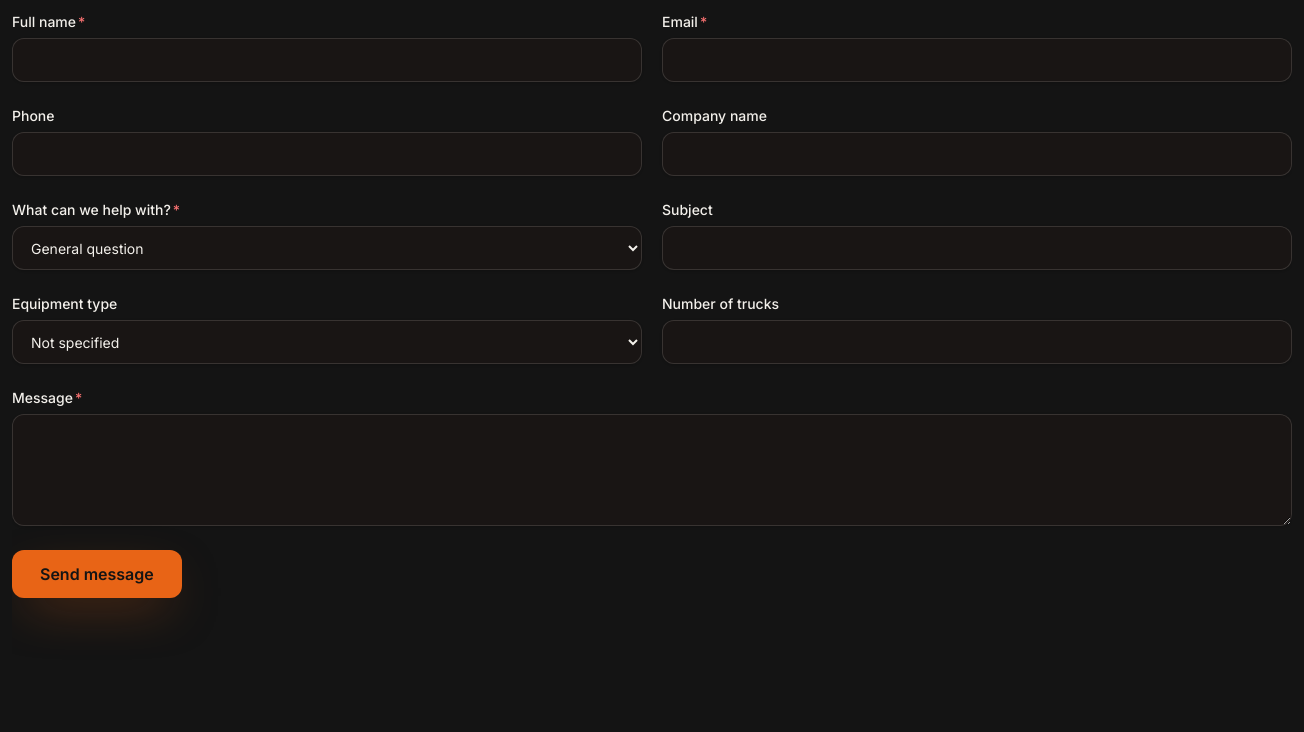
Scenario: ContactForm › shows a rate limit (429) message as an alert and keeps the input
The image size is (1304, 732).
In the field labelled "Full name*": (327,60) [12, 38, 642, 82], type "Jane Driver"
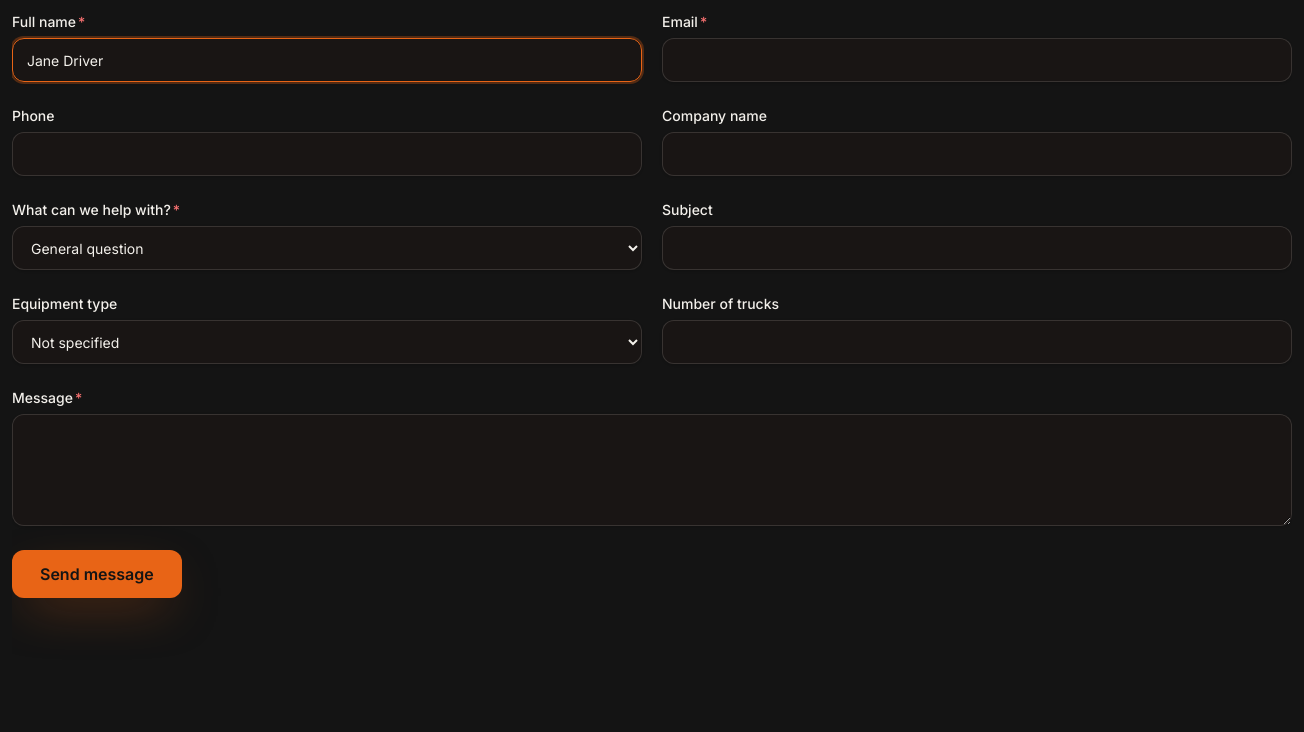
In the field labelled "Email*": (977,60) [662, 38, 1292, 82], type "jane@example.com"
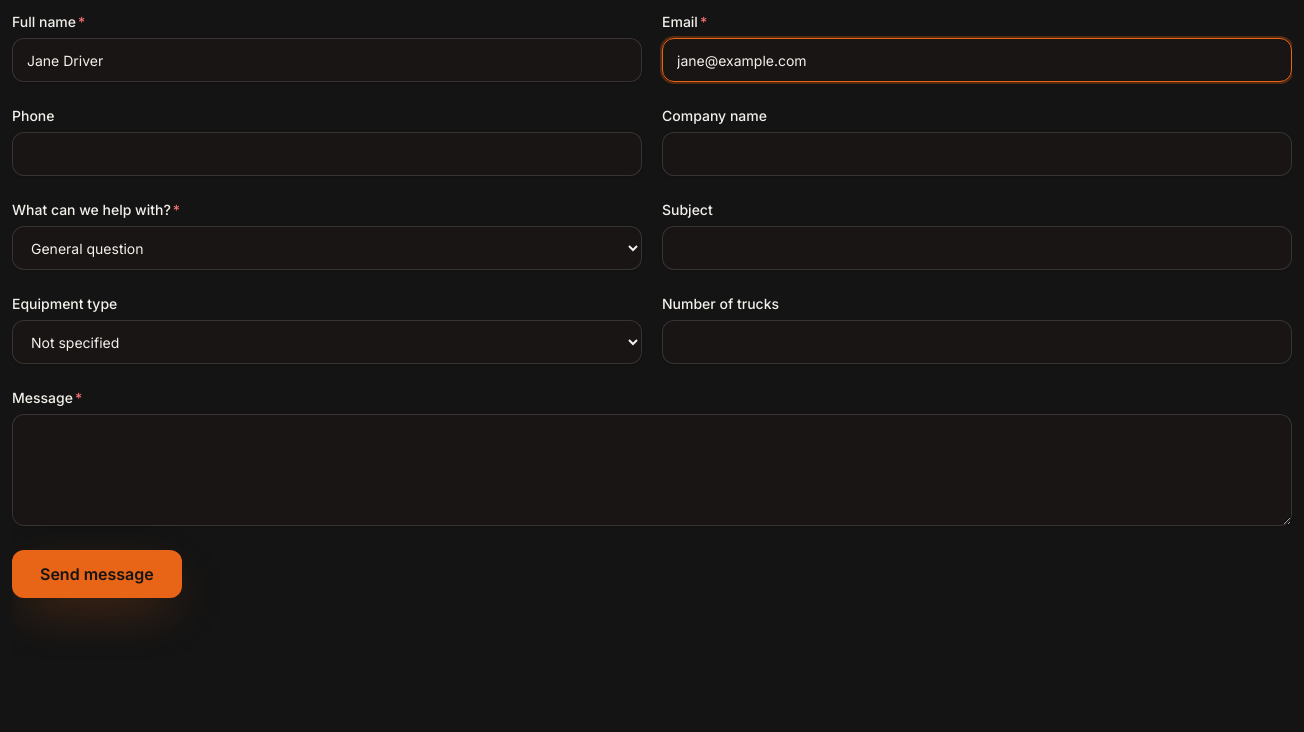
In the field labelled "Subject": (977,248) [662, 226, 1292, 270], type "Dispatch question"
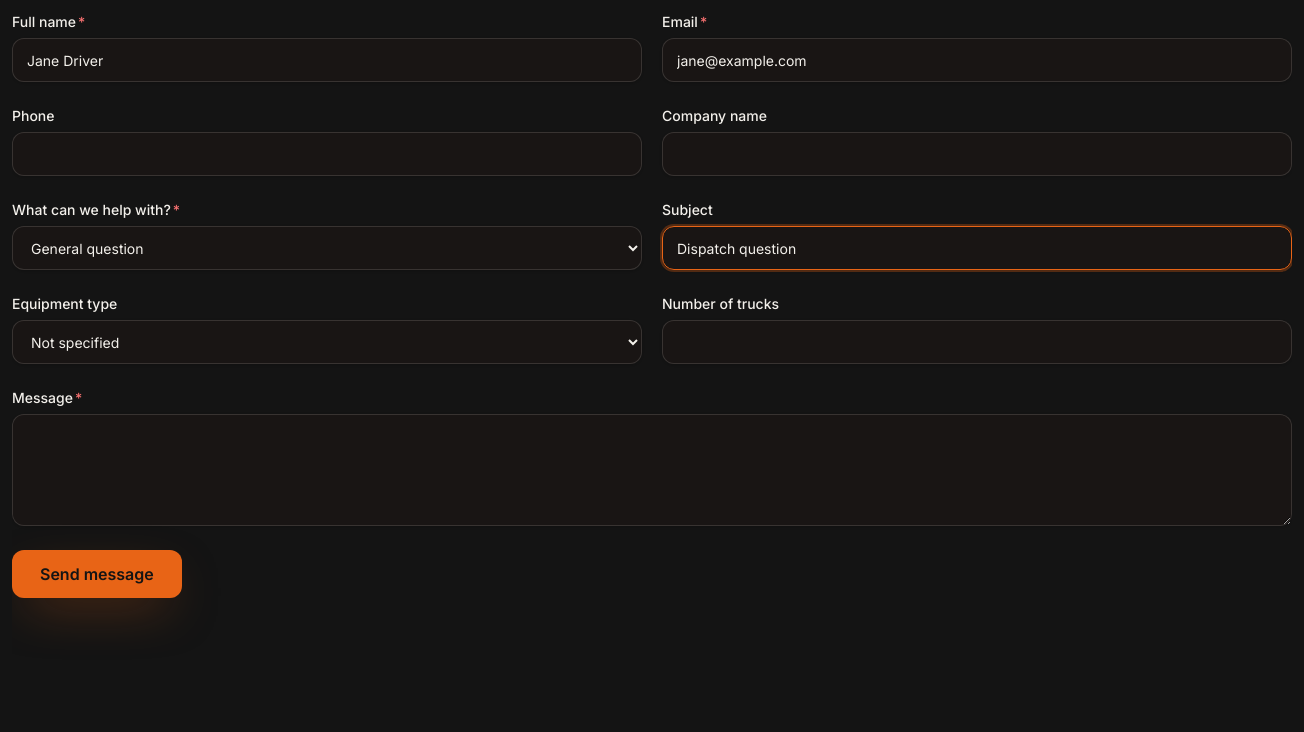
In the text box labelled "Message*": (652,470) [12, 414, 1292, 526], type "I would like to know more about dispatch."
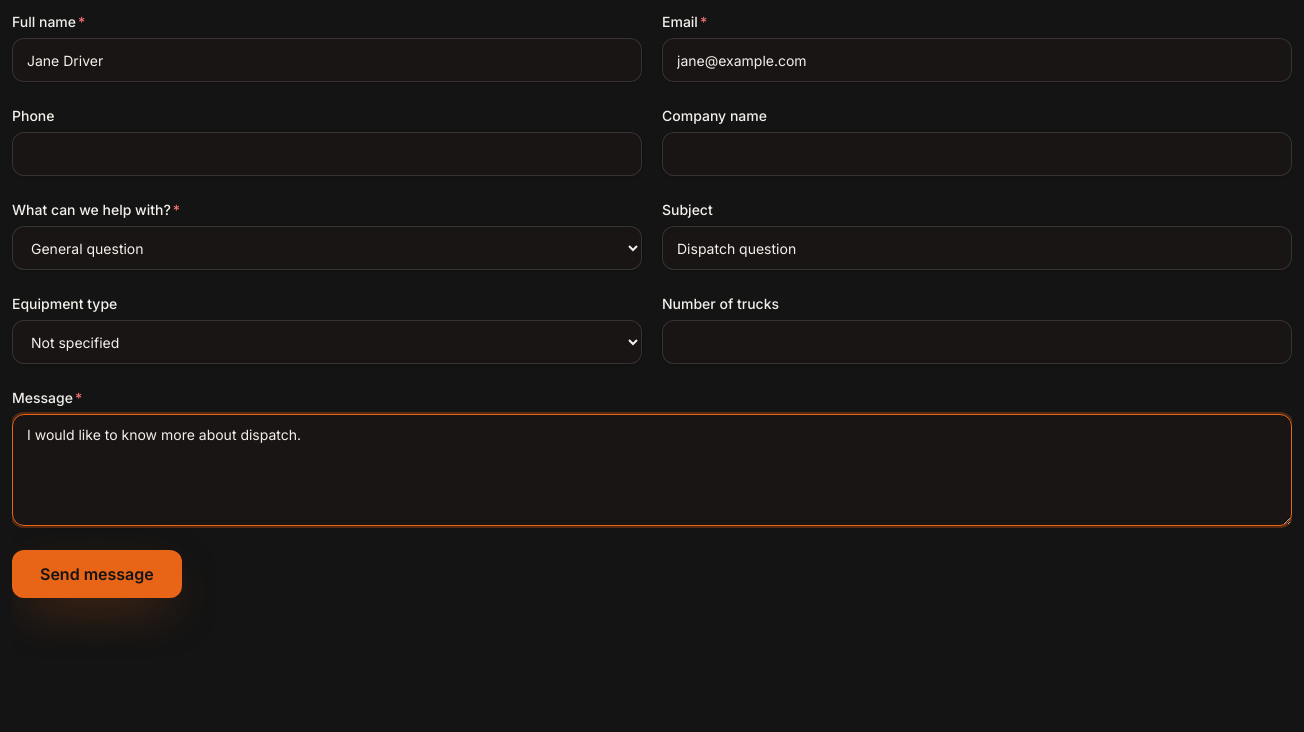
Click the button "Send message": (97,574) [12, 550, 182, 598]
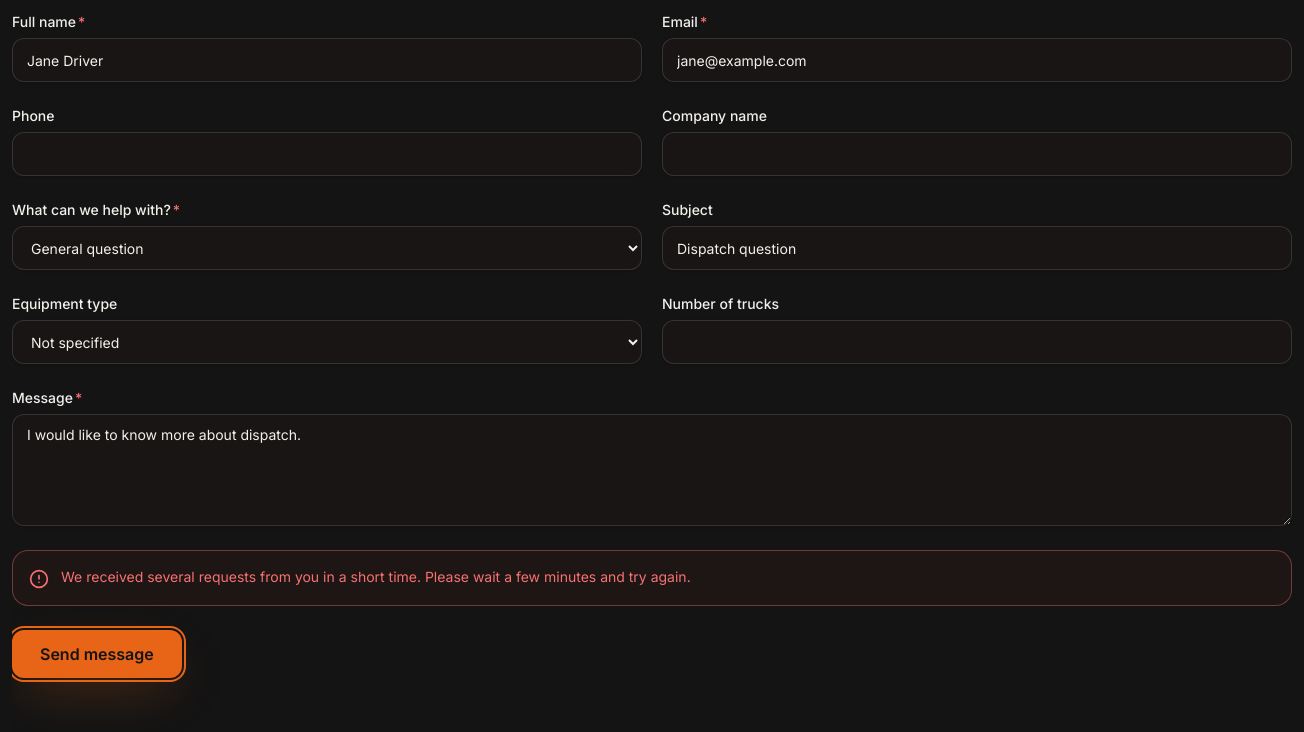
Expected: the message shows "wait a few minutes", [61, 568, 691, 585]
